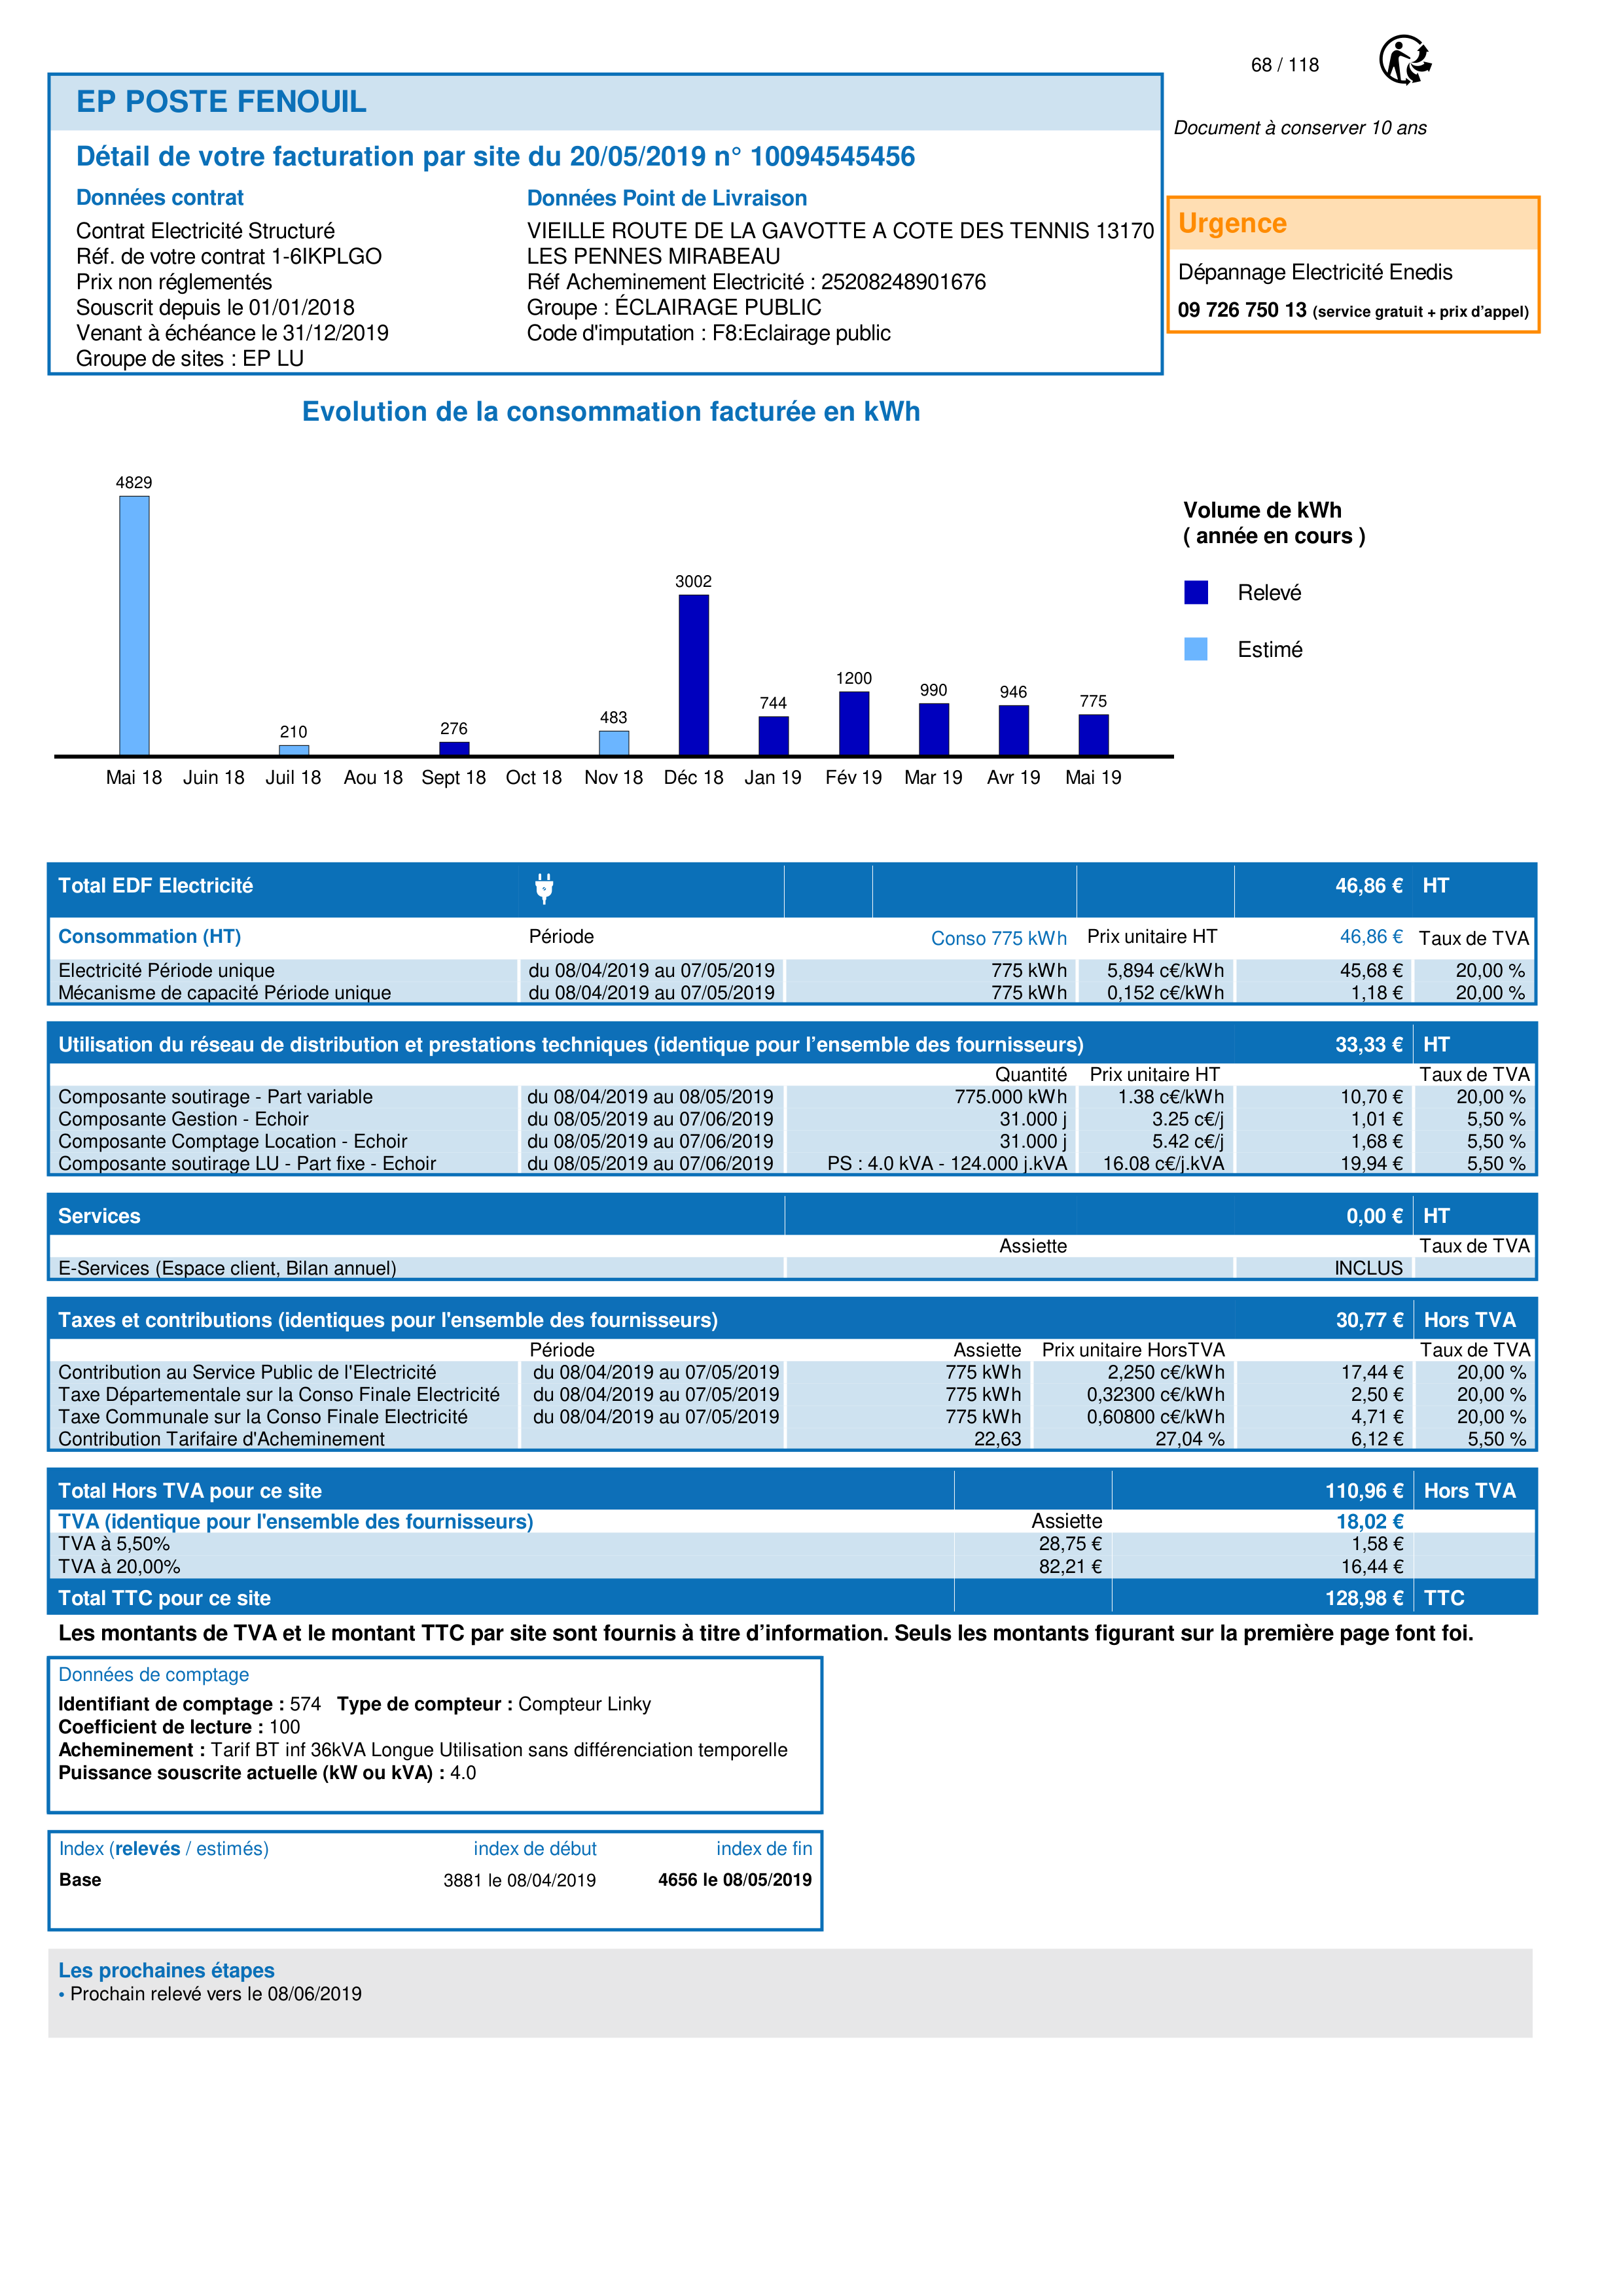area: (48, 1831, 823, 1930)
type_indicator: (49, 1831, 278, 1867)
